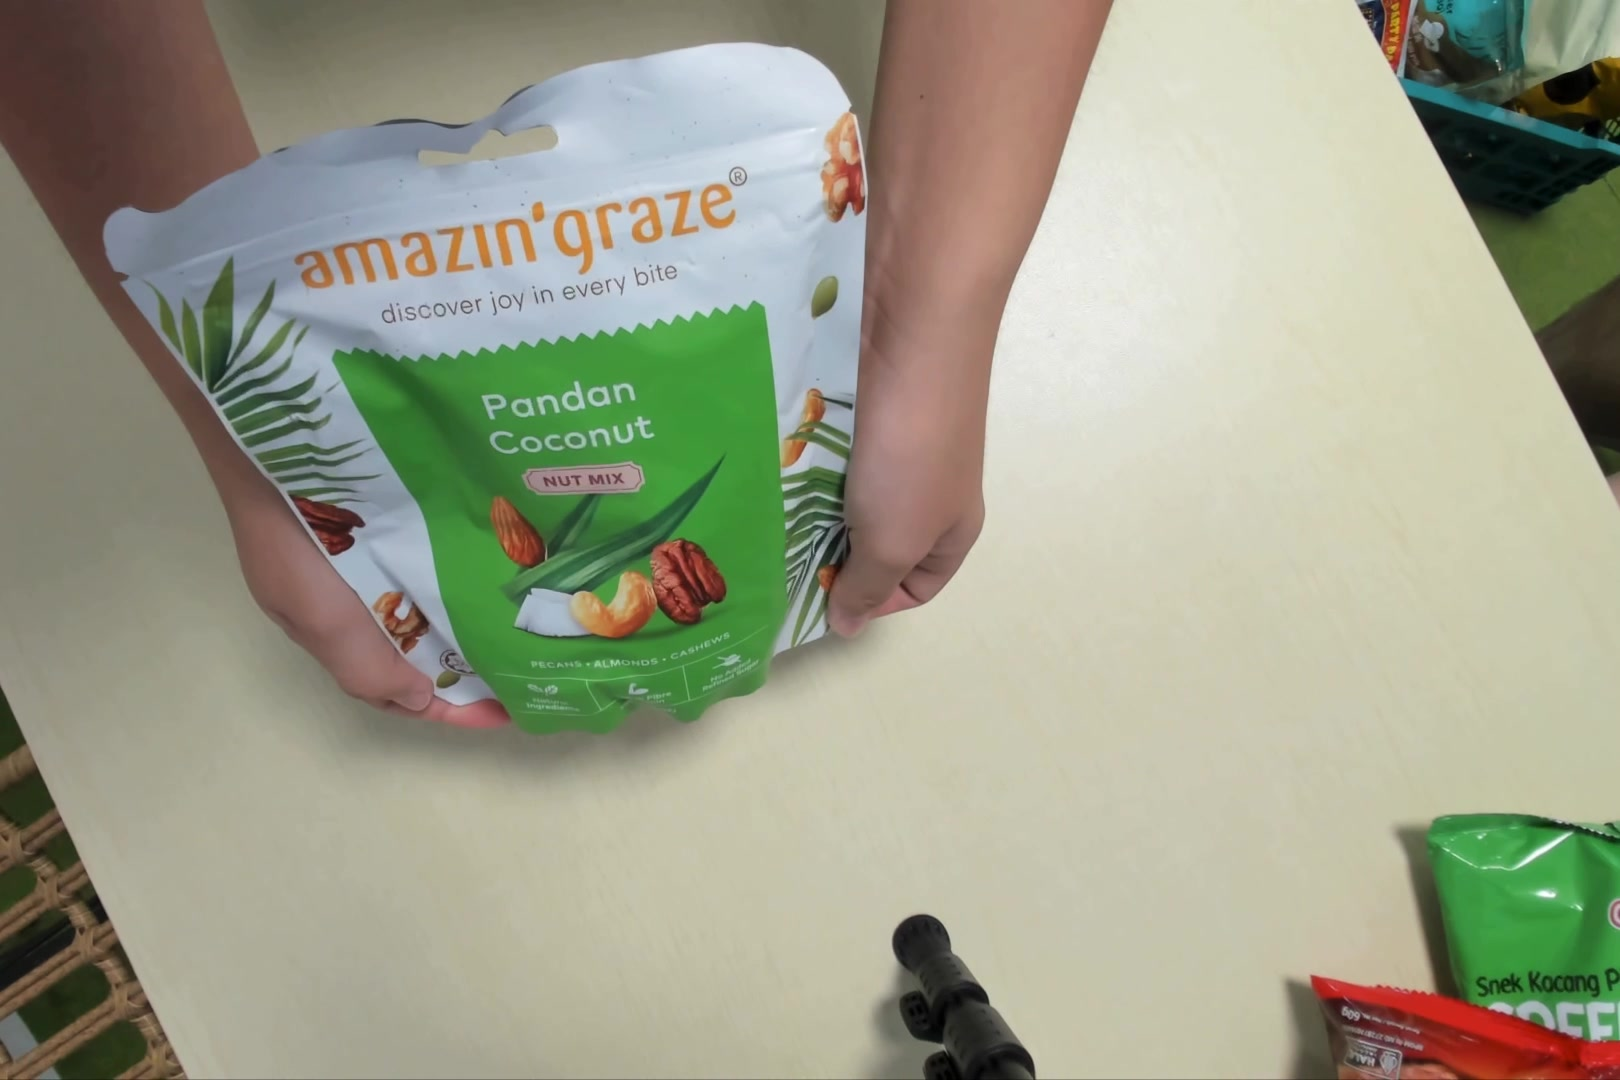Nuts_100-199g_Halal_NonHealthy: (105, 43, 868, 724)
